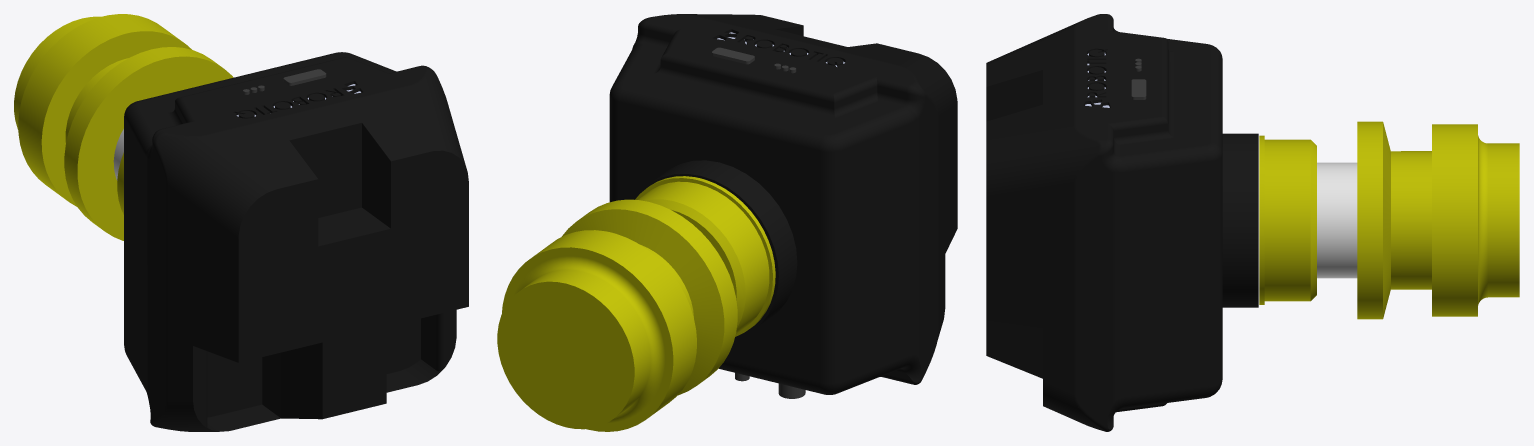
3 views of the same model, side by side, from view 1: azimuth 30°, elevation 25°; view 2: azimuth 150°, elevation 25°; view 3: azimuth 270°, elevation 25° (orthographic). The views are drawn at different scales.
Parts seen in each view (by area): view 1: Robotiq0, Actor0, ft; view 2: Robotiq0, Actor0, ft; view 3: Robotiq0, ft, Actor0.
Part boxes in pixels (x1,y1,x2,y2): Robotiq0: (124,52,468,431); Actor0: (14,14,191,206); ft: (64,47,233,240); Robotiq0: (609,14,957,398); Actor0: (497,230,696,431); ft: (561,176,775,395); Robotiq0: (986,14,1258,431); ft: (1259,121,1400,319); Actor0: (1401,124,1519,316).
Bounding box in the file's own units: 0.1245 × 0.1359 × 0.2078.
